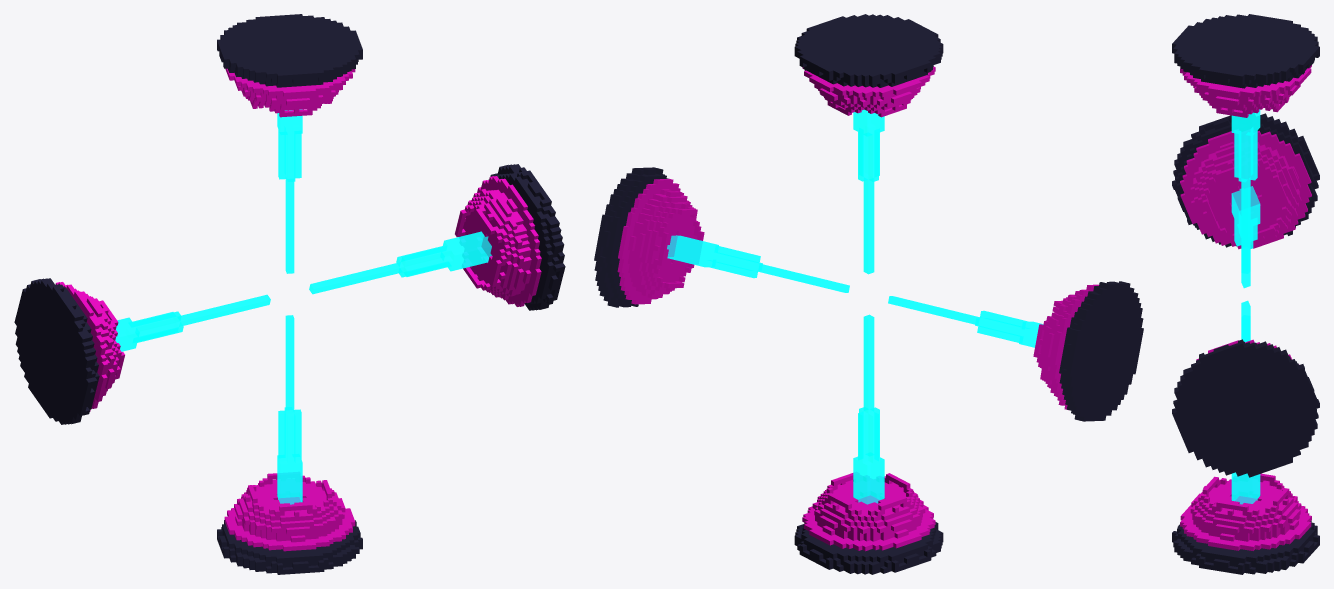
The model's file is engel6.fbx.
The picture shows the model from 3 angles, left to right: view 1: azimuth 30°, elevation 25°; view 2: azimuth 150°, elevation 25°; view 3: azimuth 270°, elevation 25°; orthographic projection.
Parts seen in each view (by area): view 1: Cone.018, Cone.012, Cone.019, Cone.013, Cone.021, Cone.015, Cone.020, Cone.014, Cone.010, Cone.016, Cone.017, Cone.011; view 2: Cone.018, Cone.012, Cone.019, Cone.013, Cone.015, Cone.021, Cone.014, Cone.020, Cone.010, Cone.011, Cone.016, Cone.017; view 3: Cone.021, Cone.016, Cone.012, Cone.013, Cone.015, Cone.018, Cone.010, Cone.011, Cone.017, Cone.014, Cone.020.
Part boxes in pixels (x1,y1,x2,y2): Cone.018: (14, 278, 99, 424); Cone.012: (217, 14, 362, 87); Cone.019: (455, 176, 541, 306); Cone.013: (224, 473, 355, 551); Cone.021: (488, 164, 565, 310); Cone.015: (217, 520, 362, 574); Cone.020: (309, 231, 491, 294); Cone.014: (277, 315, 302, 504); Cone.010: (225, 68, 355, 117); Cone.016: (55, 282, 124, 411); Cone.017: (115, 294, 270, 351); Cone.011: (277, 109, 302, 273); Cone.018: (1059, 281, 1143, 421); Cone.012: (794, 14, 943, 87); Cone.019: (617, 178, 704, 304); Cone.013: (802, 473, 935, 551); Cone.015: (794, 522, 943, 574); Cone.021: (594, 167, 668, 307); Cone.014: (853, 314, 884, 504); Cone.020: (667, 235, 849, 292); Cone.010: (802, 66, 935, 117); Cone.011: (853, 109, 884, 274); Cone.016: (1033, 284, 1098, 410); Cone.017: (888, 296, 1043, 347); Cone.021: (1172, 339, 1319, 477); Cone.016: (1180, 130, 1311, 249); Cone.012: (1172, 14, 1319, 88); Cone.013: (1180, 473, 1311, 550); Cone.015: (1172, 521, 1319, 574); Cone.018: (1172, 113, 1319, 247); Cone.010: (1180, 65, 1311, 117); Cone.011: (1231, 109, 1260, 273); Cone.017: (1231, 186, 1260, 288); Cone.014: (1231, 472, 1260, 504); Cone.020: (1241, 300, 1255, 342).
Bounding box in the file's own units: 548 × 548 × 147.
